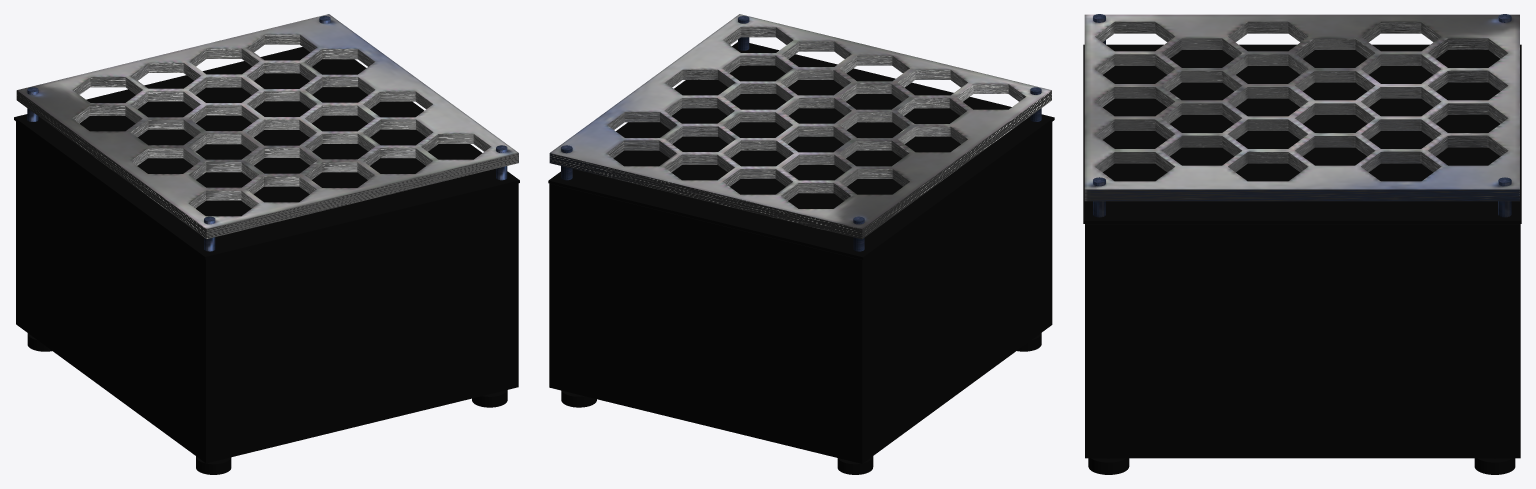
The model's file is table.dae.
The picture shows the model from 3 angles, left to right: view 1: azimuth 30°, elevation 25°; view 2: azimuth 150°, elevation 25°; view 3: azimuth 270°, elevation 25°; orthographic projection. The views are drawn at different scales.
Parts seen in each view (by area): view 1: Table; view 2: Table; view 3: Table.
Boxes of the visible parts, bbox=[...] form: Table: bbox=[14, 14, 519, 474]; Table: bbox=[548, 14, 1054, 474]; Table: bbox=[1083, 14, 1521, 474].
Size of the model in its own units: 0.735 by 0.7732 by 0.5655.
Materials: 3 (3 with a texture image).
